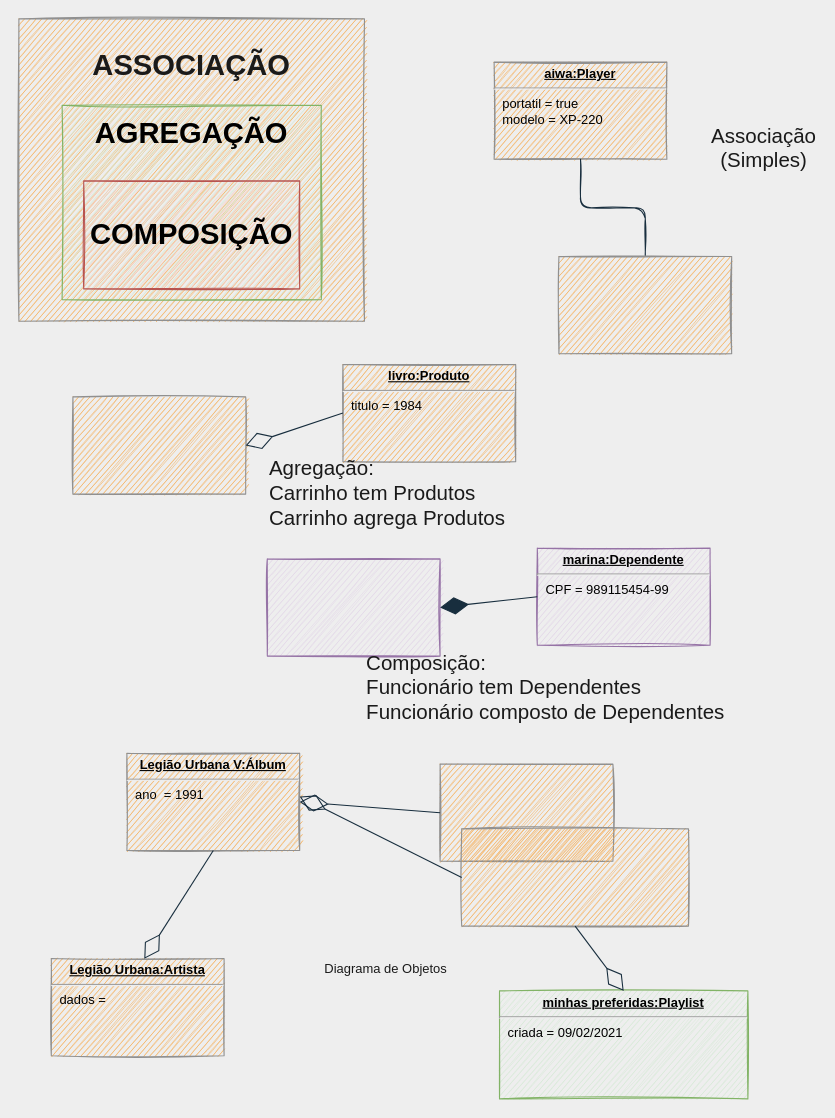
The diagram is 835 pixels wide and 1118 high, and some of its shapes have lost their labels. Each missing label, with the centre of its shape:
"Legião Urbana:CD álbum = LU V" goes at pixel 645 304.
"marcio:Funcionario CPF = 112555846-99" goes at pixel 353 607.
"Metal contra as Nuvens:Música duração = 11m28s" goes at pixel 574 877.
"meu_carrinho:Carrinho field1 = value1 field2 = value2 field3 = value3" goes at pixel 159 445.
"Vento no Litoral:Música duração = 6m6s" goes at pixel 526 812.
